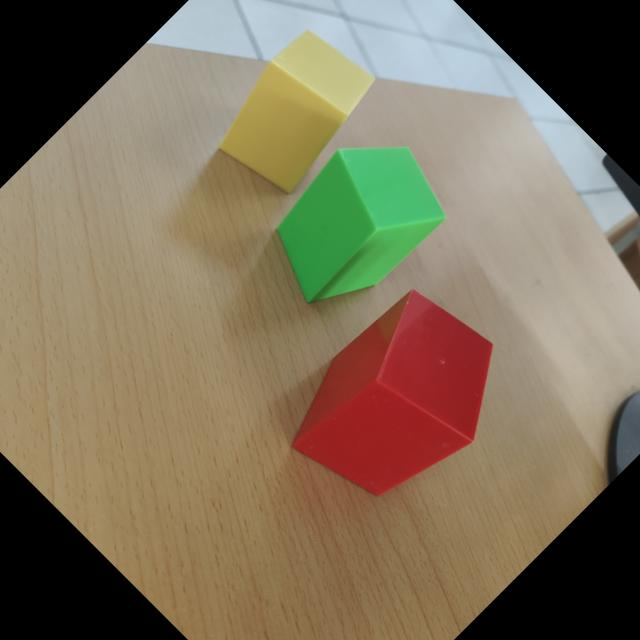green: (274, 147, 444, 304)
red: (289, 289, 493, 498)
yellow: (217, 31, 372, 194)
